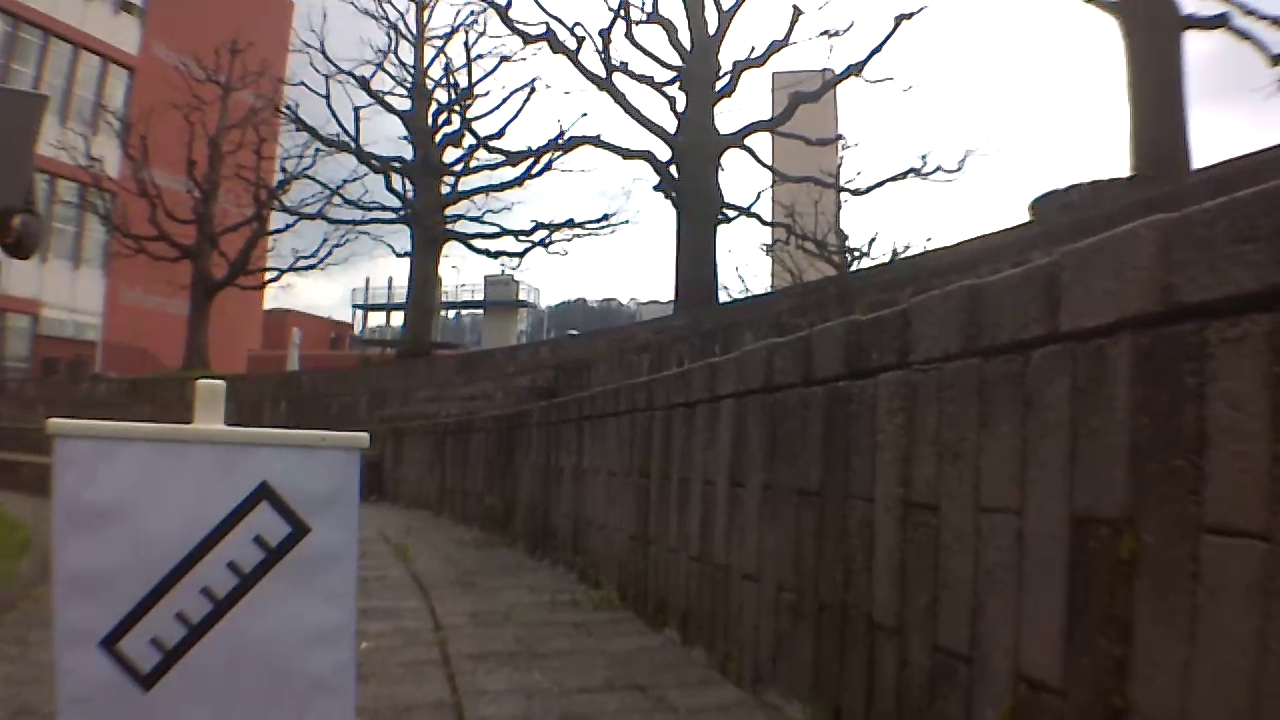ruler: (96, 473, 318, 698)
